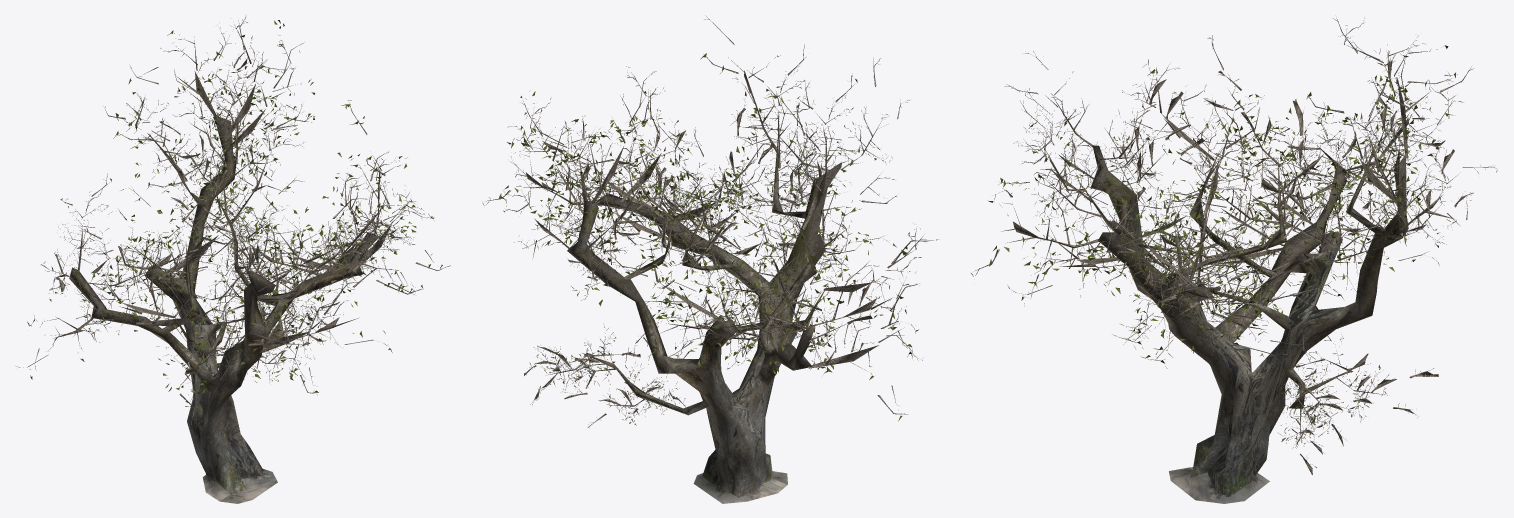
File: island_tree_01.glb
The picture shows the model from 3 angles, left to right: view 1: azimuth 30°, elevation 25°; view 2: azimuth 150°, elevation 25°; view 3: azimuth 270°, elevation 25°; orthographic projection. The views are drawn at different scales.
Parts seen in each view (by area): view 1: sb_modello; view 2: sb_modello; view 3: sb_modello.
Boxes of the visible parts, x1,y1,x2,y2 form: sb_modello: [16, 16, 450, 503]; sb_modello: [482, 15, 938, 503]; sb_modello: [971, 18, 1497, 503].
Size of the model in its own units: 4.65 by 4.9 by 4.75.
3 materials, 3 textured.
